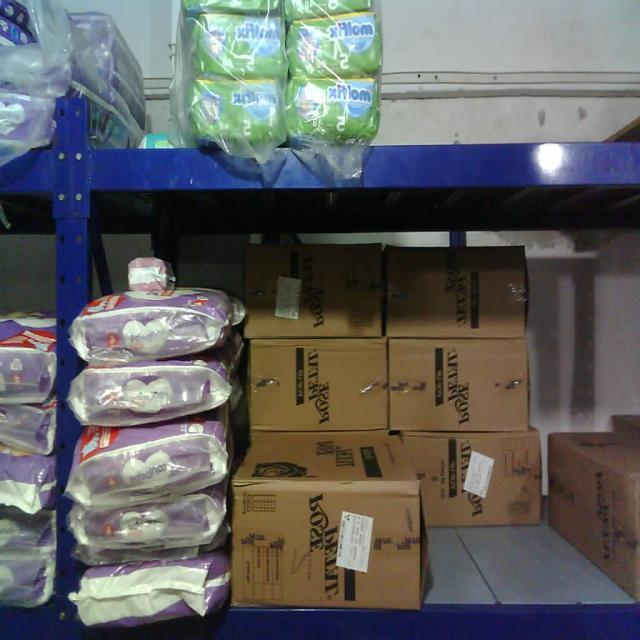box: (231, 502, 422, 602), (244, 245, 379, 342), (389, 243, 528, 337), (248, 343, 390, 430), (419, 430, 540, 530), (391, 347, 525, 428)
